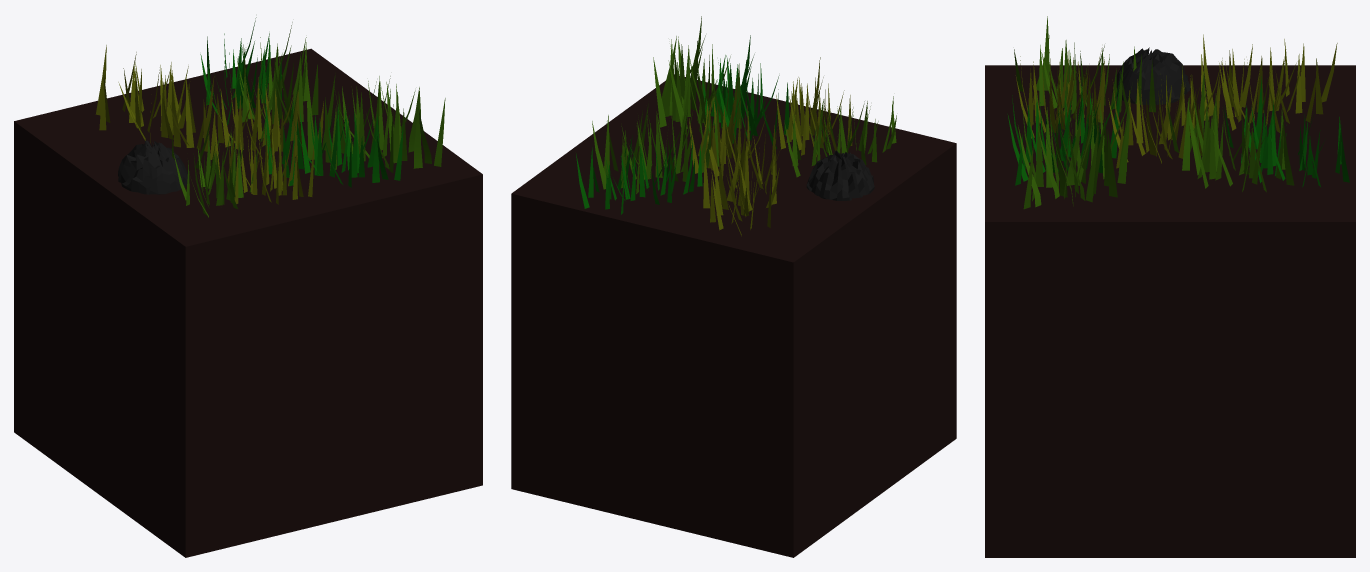
Rendered from Trawa 3.obj.
3 views of the same model, side by side, from view 1: azimuth 30°, elevation 25°; view 2: azimuth 150°, elevation 25°; view 3: azimuth 270°, elevation 25° (orthographic). The views are drawn at different scales.
Parts seen in each view (by area): view 1: Cube, Plane.002_Plane.031, Plane.001_Plane.030, Plane, Plane.005_Plane.034, Sphere, Plane.007_Plane.036, Plane.003_Plane.032, Plane.006_Plane.035, Plane.004_Plane.033; view 2: Cube, Plane.002_Plane.031, Plane.003_Plane.032, Plane.005_Plane.034, Plane.004_Plane.033, Plane.001_Plane.030, Plane, Sphere, Plane.007_Plane.036, Plane.006_Plane.035; view 3: Cube, Plane.002_Plane.031, Plane.003_Plane.032, Plane.005_Plane.034, Plane, Sphere, Plane.001_Plane.030, Plane.006_Plane.035, Plane.004_Plane.033, Plane.007_Plane.036.
Boxes of the visible parts, x1,y1,x2,y2 form: Cube: (14,48,482,557); Plane.002_Plane.031: (307,73,445,172); Plane.001_Plane.030: (265,99,403,187); Plane: (186,76,323,159); Plane.005_Plane.034: (95,45,207,150); Sphere: (118,140,189,194); Plane.007_Plane.036: (215,123,314,204); Plane.003_Plane.032: (237,22,318,142); Plane.006_Plane.035: (172,111,257,217); Plane.004_Plane.033: (200,17,281,124); Cube: (511,74,956,557); Plane.002_Plane.031: (653,16,741,139); Plane.003_Plane.032: (592,103,719,193); Plane.005_Plane.034: (703,126,780,236); Plane.004_Plane.033: (576,135,702,214); Plane.001_Plane.030: (702,35,789,148); Plane: (689,76,776,189); Sphere: (806,150,874,200); Plane.007_Plane.036: (776,57,852,156); Plane.006_Plane.035: (784,96,896,177); Cube: (985,65,1355,557); Plane.002_Plane.031: (1018,86,1131,209); Plane.003_Plane.032: (1166,69,1294,192); Plane.005_Plane.034: (1190,34,1337,132); Plane: (1108,58,1222,168); Sphere: (1112,47,1190,104); Plane.001_Plane.030: (1007,75,1121,185); Plane.006_Plane.035: (1014,16,1155,122); Plane.004_Plane.033: (1223,76,1349,187); Plane.007_Plane.036: (1015,47,1105,138).
Size of the model in its own units: 2 by 2.56 by 2.
